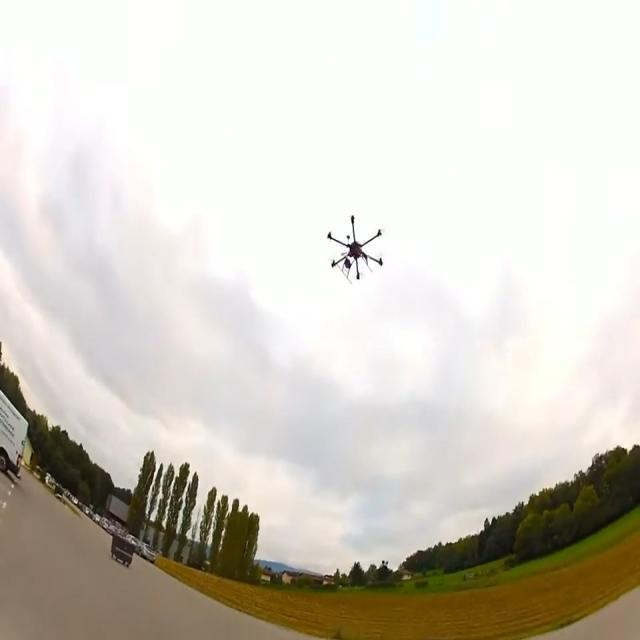drone: (326, 213, 383, 283)
